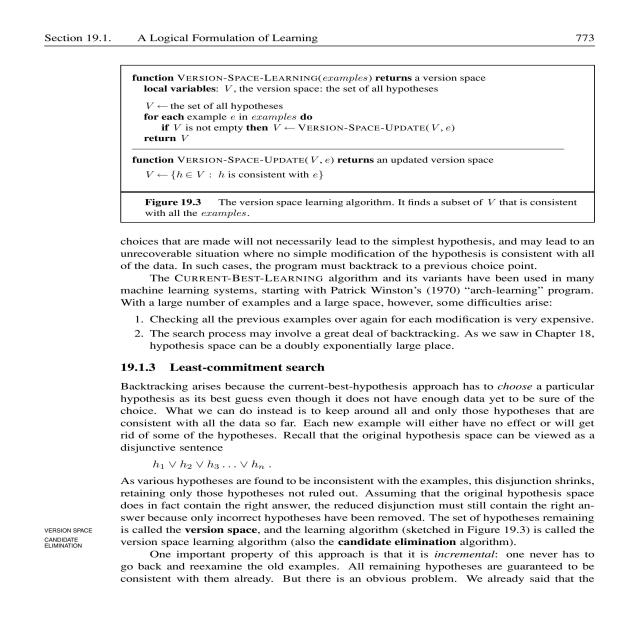diagram: (99, 56, 626, 231)
